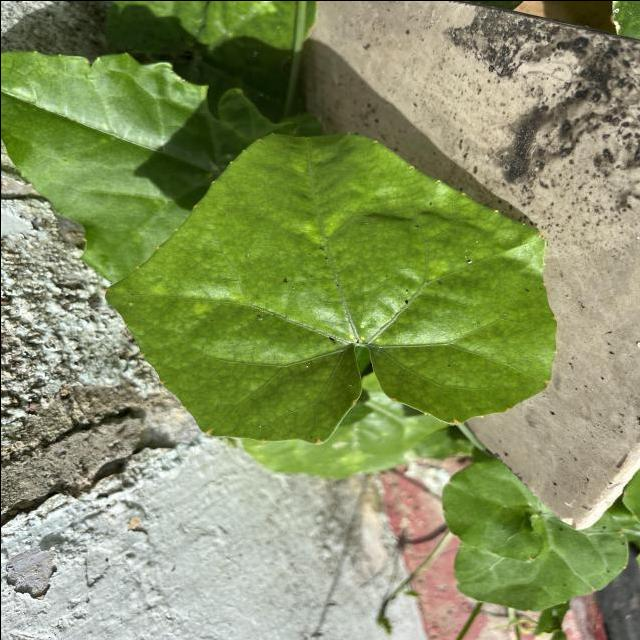Coccinia grandis: (98, 126, 560, 446)
